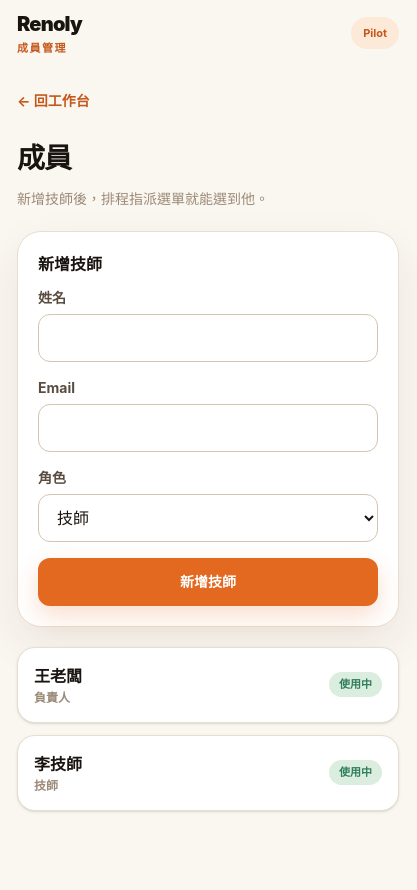
Test: TeamManagement › surfaces an invite failure without clearing the form
Expected: the text "王老闆" is shown, [34,664,82,688]
In the field labelled "姓名": (208, 338) [38,314,378,362], type "陳師傅"
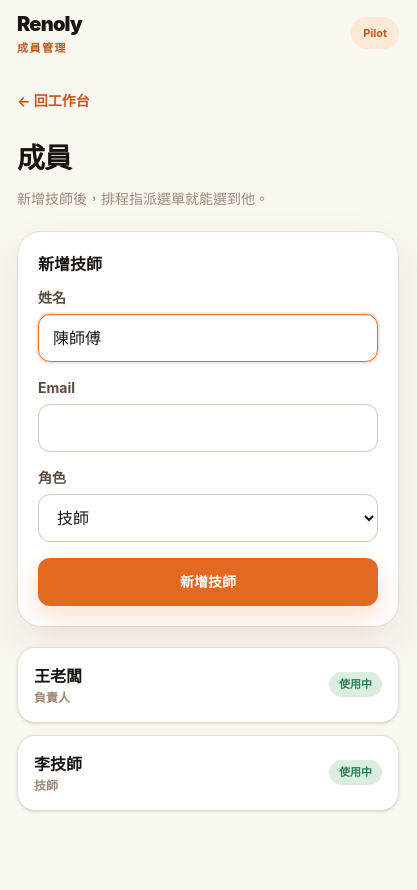
In the field labelled "Email": (208, 428) [38,404,378,452], type "chen@example.test"
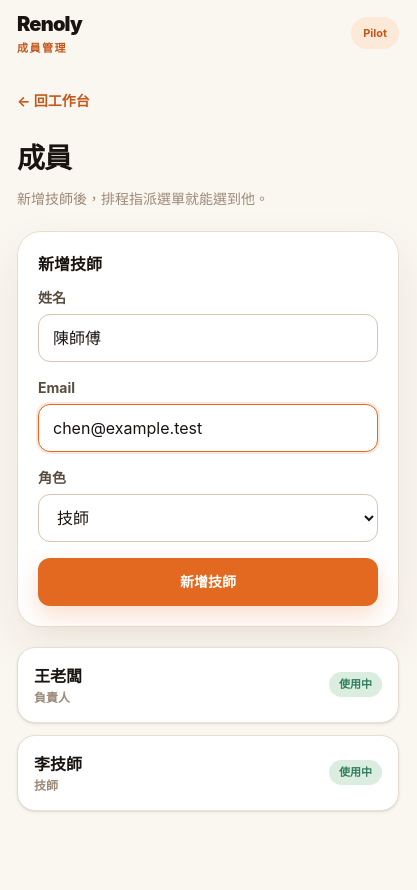
Click the button "新增技師": click(208, 582) [38,558,378,606]
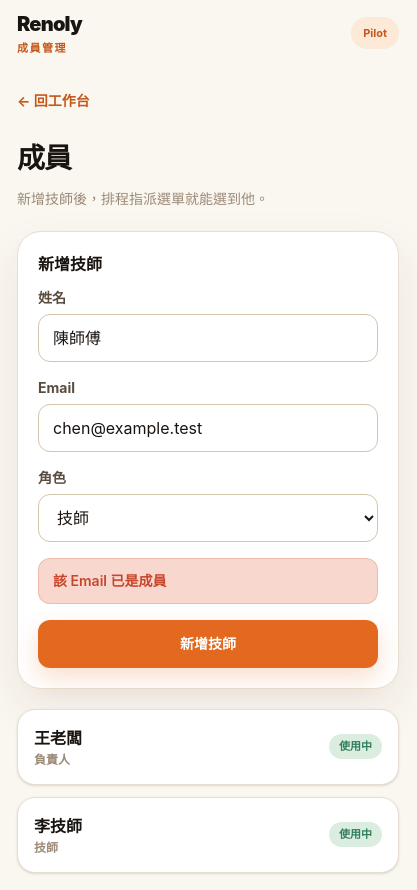
Now the message reads "該 Email 已是成員", box [53,572,166,588]
